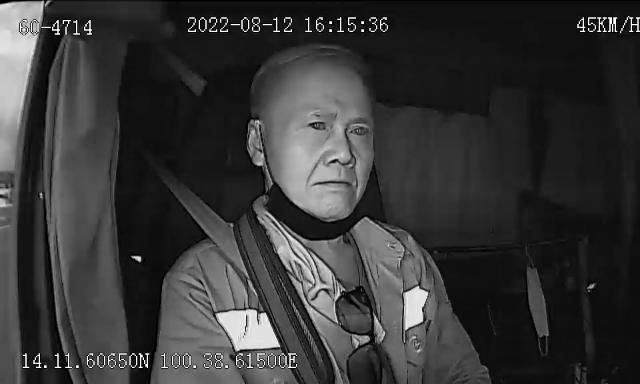SafeDriving: (344, 113, 376, 142), (301, 110, 335, 136)
Seatbelt: (177, 192, 246, 268)
